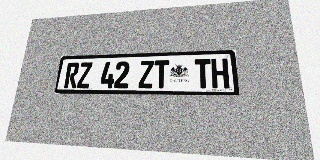2: (114, 61, 130, 88)
4: (100, 61, 116, 88)
H: (211, 58, 229, 88)
R: (64, 62, 80, 88)
T: (194, 59, 212, 88), (154, 60, 169, 88)
Z: (138, 60, 154, 88), (77, 62, 93, 88)
